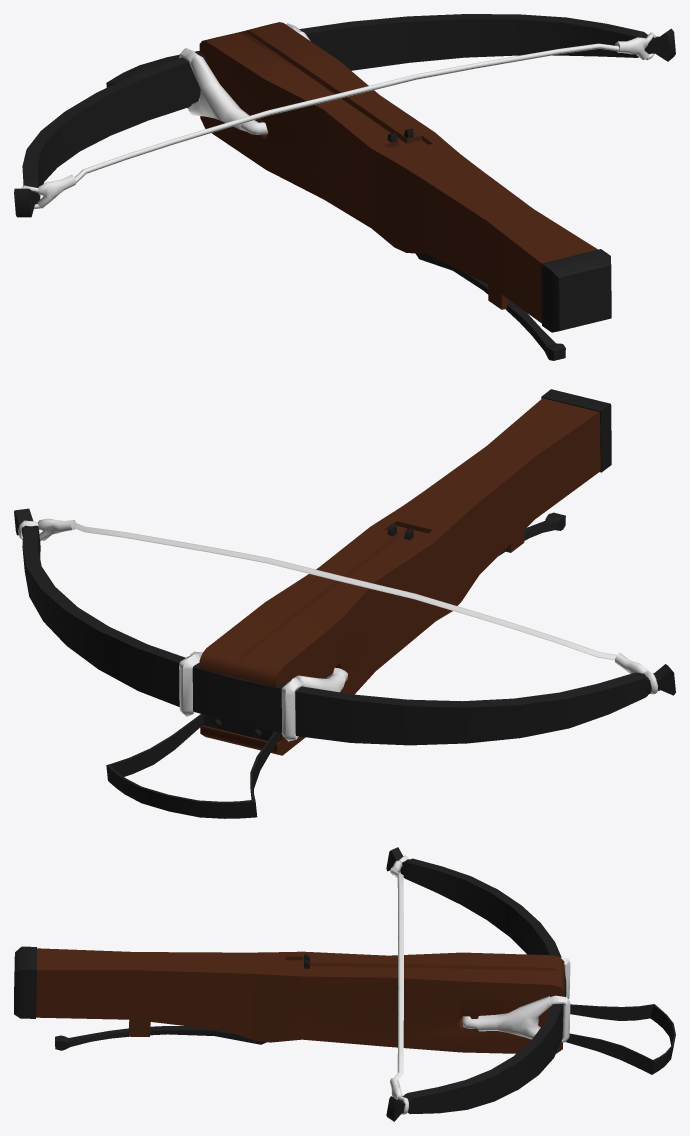
Rendered from Besta.fbx.
The picture shows the model from 3 angles, top to bottom: view 1: azimuth 30°, elevation 25°; view 2: azimuth 150°, elevation 25°; view 3: azimuth 270°, elevation 25°; orthographic projection. The views are drawn at different scales.
Parts seen in each view (by area): view 1: Besta, Corda besta; view 2: Besta, Corda besta; view 3: Besta, Corda besta.
Part boxes in pixels (x1,y1,x2,y2): Besta: (14, 14, 675, 360); Corda besta: (21, 32, 656, 208); Besta: (14, 389, 675, 818); Corda besta: (18, 518, 657, 694); Besta: (14, 847, 675, 1121); Corda besta: (390, 855, 408, 1114).
Bounding box in the file's own units: 83.29 × 13.78 × 91.41.
